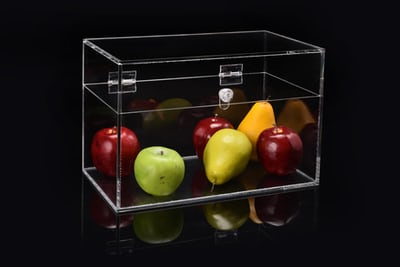apple: (255, 125, 306, 180), (89, 126, 140, 179), (192, 112, 235, 163)
